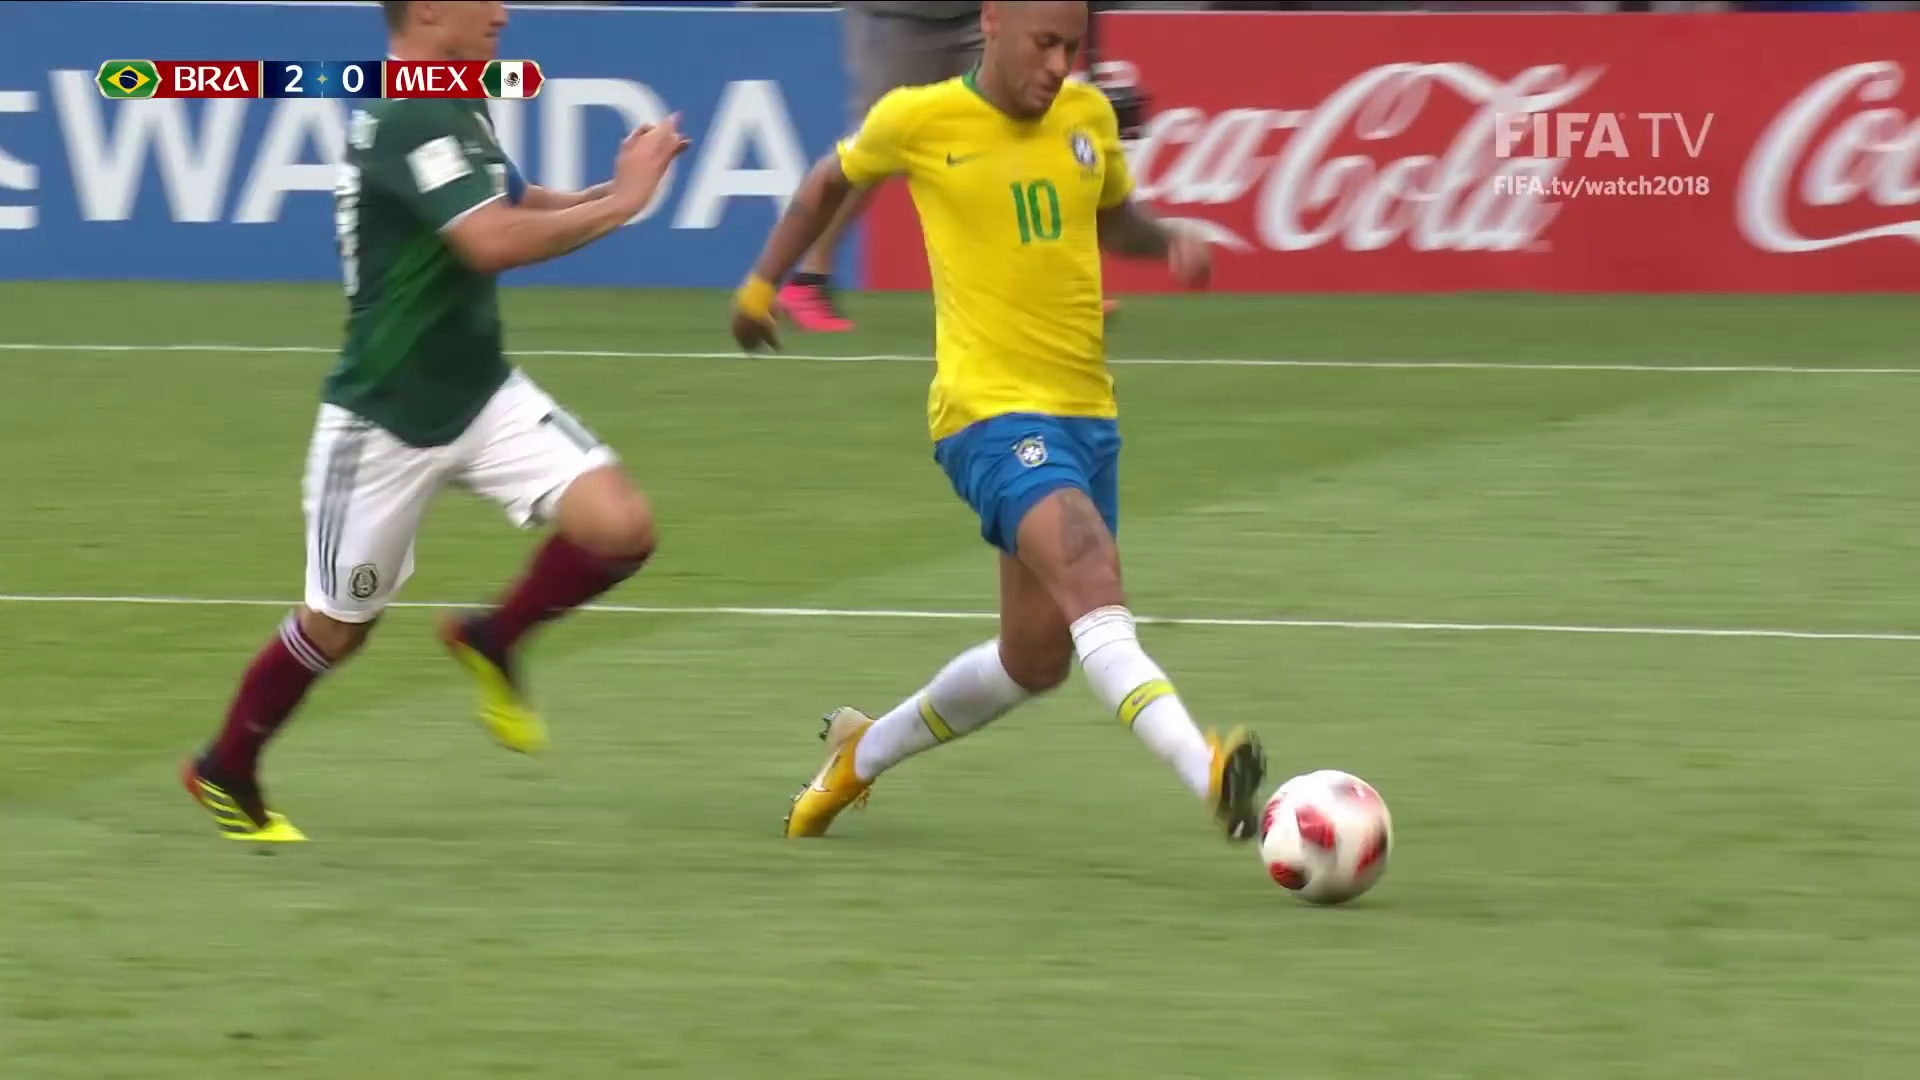ball: (1261, 768, 1392, 903)
person: (735, 1, 1271, 849), (163, 3, 688, 861)
